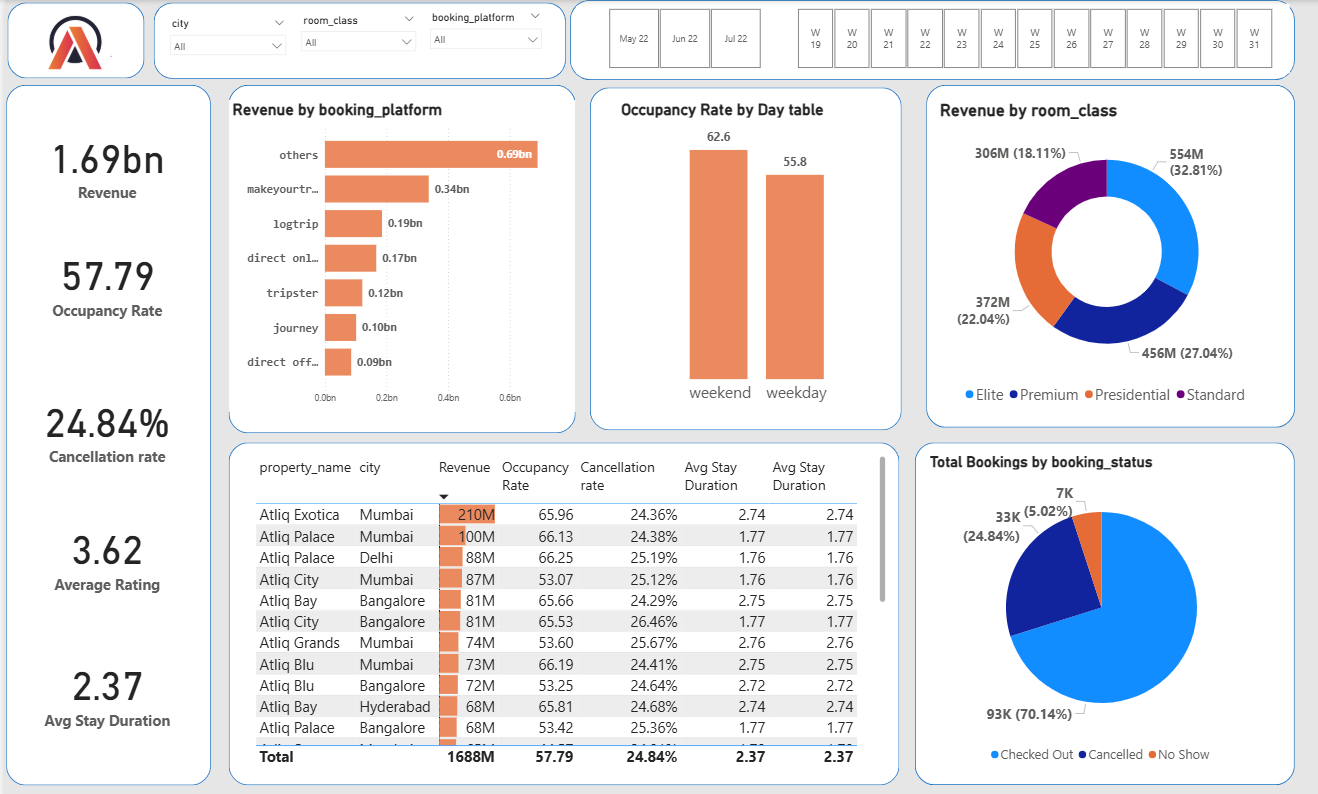

The page's visual inventory and layout, read from the dashboard file:
{"tool":"powerbi","page":{"name":"Page 1","canvas":[1800,1100],"ordinal":0},"visuals":[{"type":"shape","box":[304.1,602.7,912.4,466.3],"z":0},{"type":"shape","box":[1.8,116.1,278.3,952.9],"z":1000},{"type":"shape","box":[768.6,0,986.1,108.7],"z":2000},{"type":"shape","box":[202.3,3.7,560.8,103.9],"z":3000},{"type":"slicer","fields":{"Values":["dim_date.mmm yy"]},"box":[796.3,5.5,256.2,94],"z":4000},{"type":"slicer","fields":{"Values":["dim_date.week no"]},"box":[1052.5,5.5,694.9,94],"z":5000},{"type":"slicer","fields":{"Values":["dim_rooms.room_class"]},"box":[392.4,12.9,176.1,78.7],"z":6000},{"type":"slicer","fields":{"Values":["dim_hotels.city"]},"box":[214.5,18.5,178,78.7],"z":7000},{"type":"shape","box":[304.1,116.1,471.9,473.7],"z":8000},{"type":"image","box":[31.8,1004.2,95.5,63.7],"z":9000},{"type":"slicer","fields":{"Values":["fact_bookings.booking_platform"]},"box":[568.5,11,172.4,84.3],"z":10000},{"type":"card","fields":{"Values":["key measures.Revenue"]},"box":[20.6,155,237.7,134.7],"z":11000},{"type":"card","fields":{"Values":["key measures.Occupancy Rate"]},"box":[20.6,317.8,237.7,129.1],"z":12000},{"type":"card","fields":{"Values":["key measures.Cancellation rate"]},"box":[20.6,516.2,237.7,129.1],"z":13000},{"type":"card","fields":{"Values":["key measures.Average Rating"]},"box":[20.6,690.3,237.7,129.1],"z":14000},{"type":"card","fields":{"Values":["key measures.Avg Stay Duration"]},"box":[20.6,875.5,237.7,129.1],"z":15000},{"type":"shape","box":[796.3,119.8,423.9,466.3],"z":16000},{"type":"clusteredBarChart","fields":{"Category":["fact_bookings.booking_platform"],"Y":["key measures.Revenue"]},"box":[304.1,136.4,471.9,423.9],"z":17000},{"type":"shape","box":[1253.9,116,501.6,466],"z":18000},{"type":"lineStackedColumnComboChart","fields":{"Category":["dim_date.Day table"],"Y":["key measures.Occupancy Rate"]},"box":[832.8,136.6,383.7,423],"z":19000},{"type":"donutChart","fields":{"Y":["key measures.Revenue"],"Category":["dim_rooms.room_class"]},"box":[1267,136.6,464.1,423],"z":20000},{"type":"shape","box":[1238.9,602.6,516.5,466],"z":21000},{"type":"pieChart","fields":{"Category":["fact_bookings.booking_status"],"Y":["key measures.Total Bookings"]},"box":[1253.9,615.7,477.2,432.3],"z":22000},{"type":"tableEx","fields":{"Values":["dim_hotels.property_name","dim_hotels.city","key measures.Revenue","key measures.Occupancy Rate","key measures.Cancellation rate","key measures.Avg Stay Duration","key measures.Avg Stay Duration"]},"box":[335,615.7,868.4,432.3],"z":23000},{"type":"shape","box":[3.7,3.7,186.2,103.2],"z":24000},{"type":"image","box":[0,0,182.5,116.1],"z":25000}]}

Visuals, with their boxes in screenshot pixels (x1, y1, x2, y2), scaled from the page's 1800x1100 canvas onto the 1318x794 screenshot:
shape: [223, 435, 891, 772]
shape: [1, 84, 205, 772]
shape: [563, 0, 1285, 78]
shape: [148, 3, 559, 78]
slicer - dim_date.mmm yy: [583, 4, 771, 72]
slicer - dim_date.week no: [771, 4, 1279, 72]
slicer - dim_rooms.room_class: [287, 9, 416, 66]
slicer - dim_hotels.city: [157, 13, 287, 70]
shape: [223, 84, 568, 426]
image: [23, 725, 93, 771]
slicer - fact_bookings.booking_platform: [416, 8, 543, 69]
card - key measures.Revenue: [15, 112, 189, 209]
card - key measures.Occupancy Rate: [15, 229, 189, 323]
card - key measures.Cancellation rate: [15, 373, 189, 466]
card - key measures.Average Rating: [15, 498, 189, 591]
card - key measures.Avg Stay Duration: [15, 632, 189, 725]
shape: [583, 86, 893, 423]
clusteredBarChart - fact_bookings.booking_platform x key measures.Revenue: [223, 98, 568, 404]
shape: [918, 84, 1285, 420]
lineStackedColumnComboChart - dim_date.Day table x key measures.Occupancy Rate: [610, 99, 891, 404]
donutChart - key measures.Revenue x dim_rooms.room_class: [928, 99, 1268, 404]
shape: [907, 435, 1285, 771]
pieChart - fact_bookings.booking_status x key measures.Total Bookings: [918, 444, 1268, 756]
tableEx - dim_hotels.property_name x dim_hotels.city: [245, 444, 881, 756]
shape: [3, 3, 139, 77]
image: [0, 0, 134, 84]
